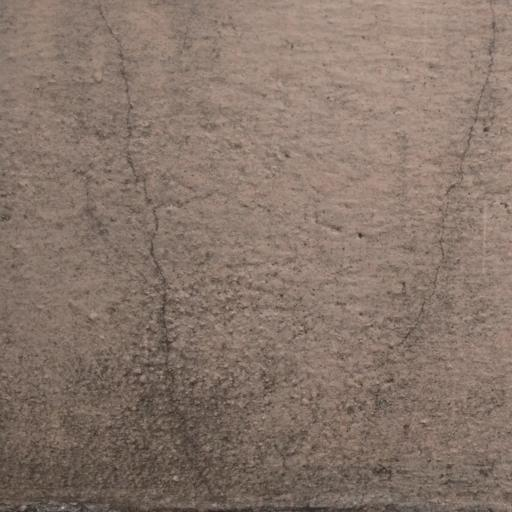minor_crack: (347, 5, 512, 512), (83, 0, 229, 509)
